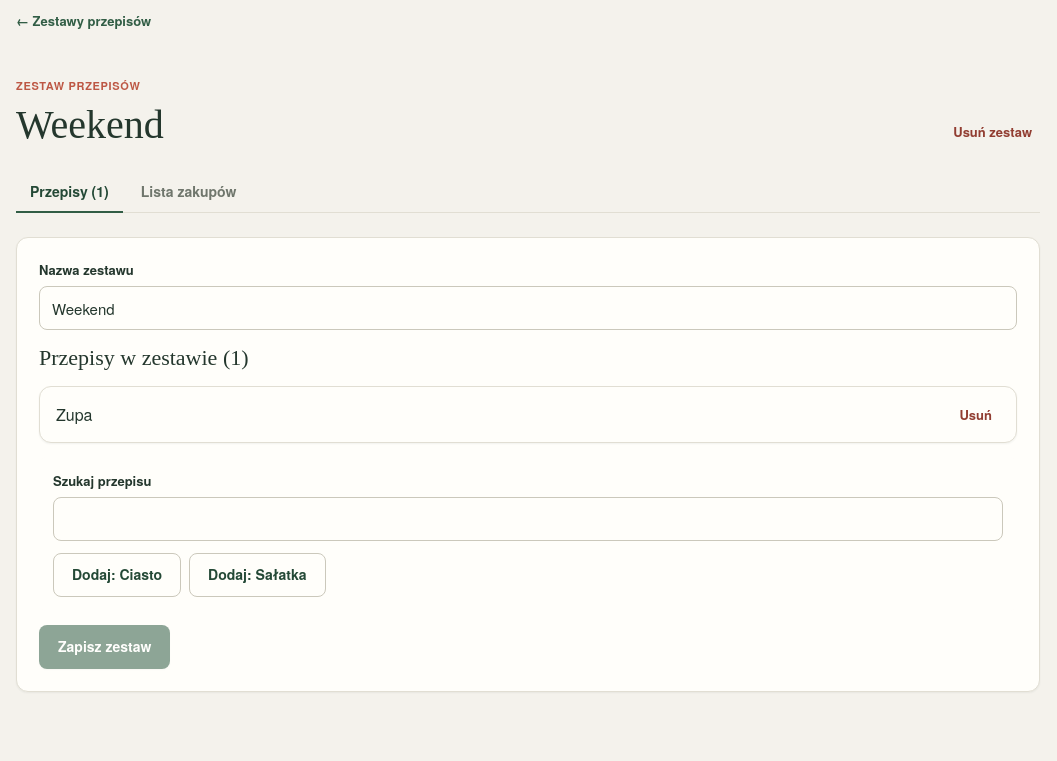
recipe set view › shows the set's shopping list in its tab with bought items below active ones
Click the tab "Lista zakupów" at (189,192), box [127,171,251,213]
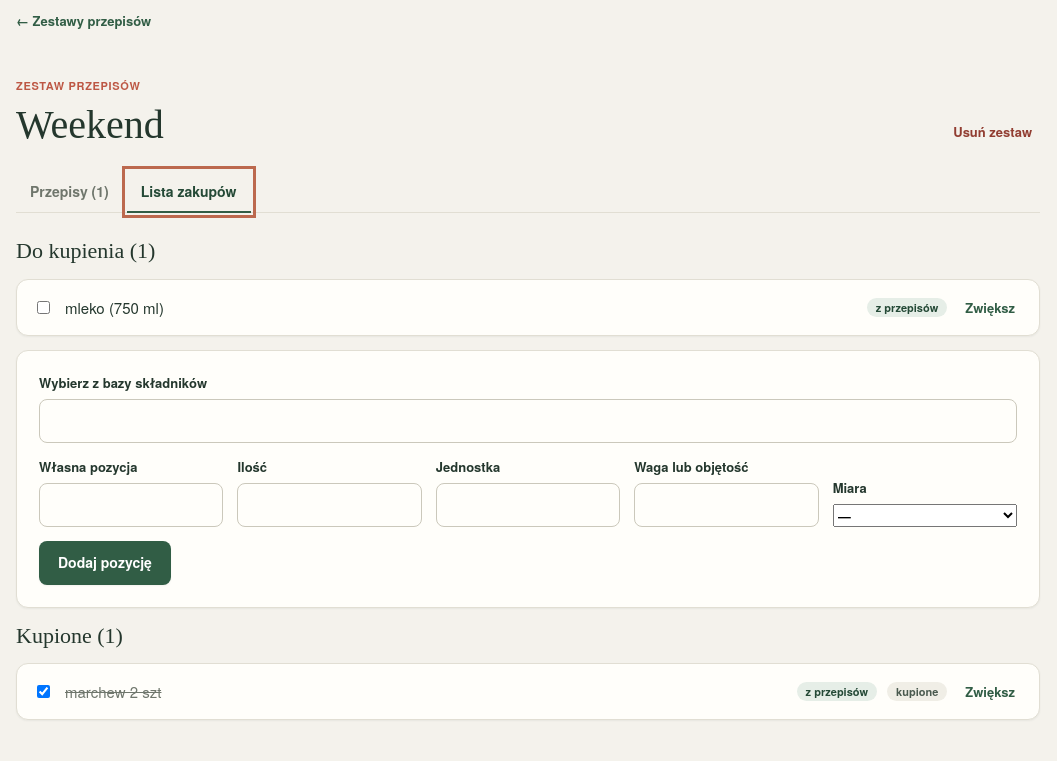
Now the text "mleko (750 ml)" is shown, box [65,297,164,318]
Now the text "marchew 2 szt" is shown, box [65,681,162,702]
Click the checkbox labelled "mleko (750 ml)" at (44,307), box [37,301,50,314]
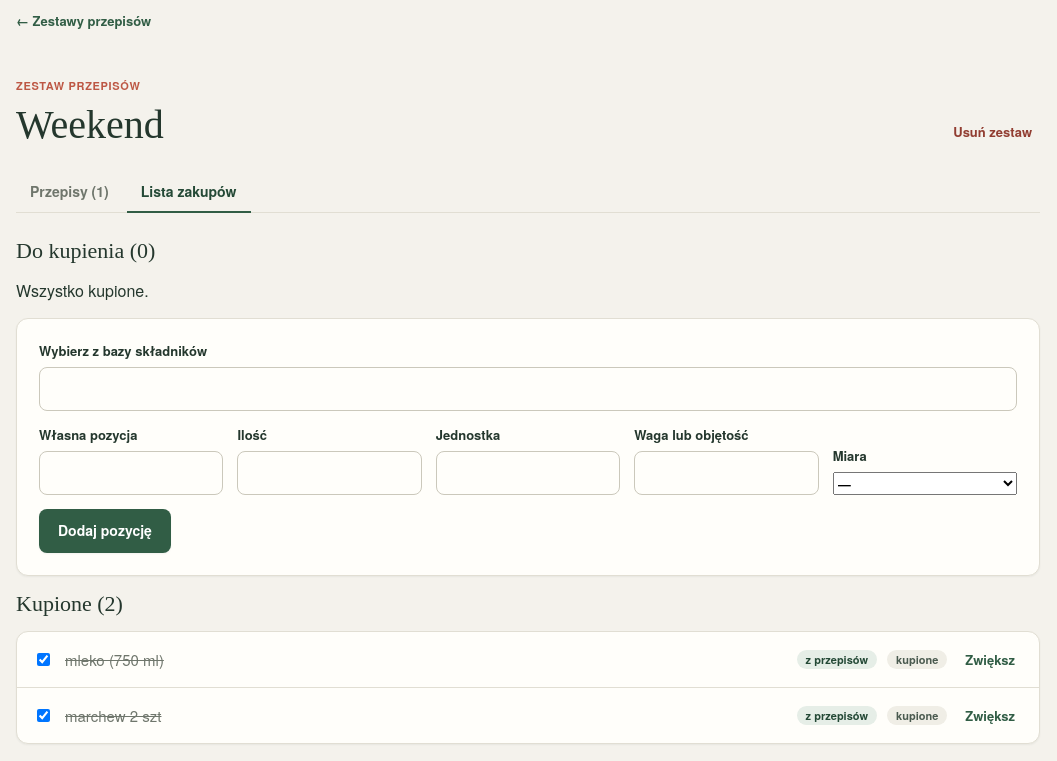
Now the element "Kupione (2)" is shown, box [16,590,1040,744]
